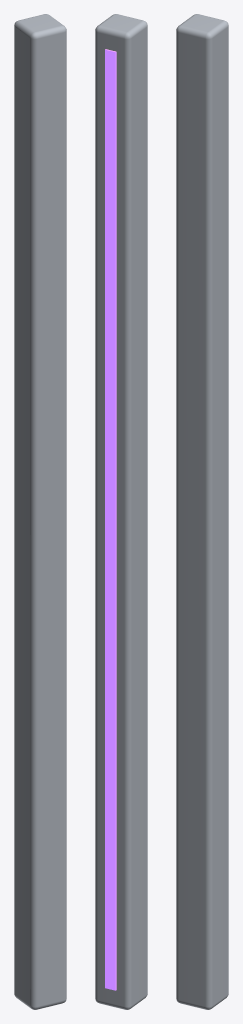
3 views of the same model, side by side, from view 1: azimuth 30°, elevation 25°; view 2: azimuth 150°, elevation 25°; view 3: azimuth 330°, elevation 25° (orthographic).
Parts seen in each view (by area): view 1: part_084; view 2: part_084; view 3: part_084.
Boxes of the visible parts, x1,y1,x2,y2 form: part_084: (14,14,66,1009); part_084: (95,14,147,1009); part_084: (176,14,228,1009).
Bounding box in the file's own units: 0.15 × 3.9 × 0.156.
